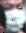with_mask: (1, 2, 26, 33)
